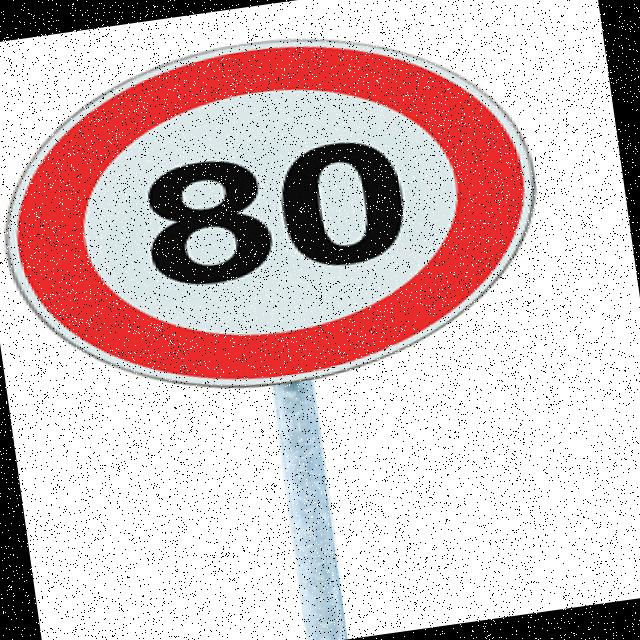speed_limit_80: (0, 0, 589, 422)
